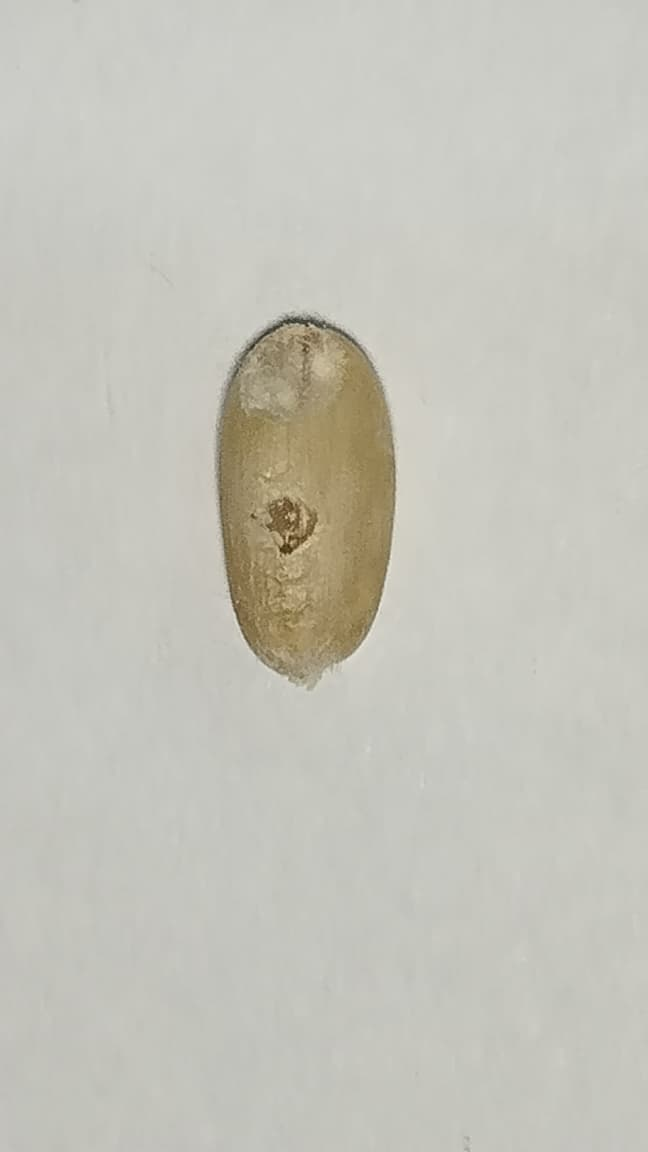damage: (214, 313, 397, 684)
insectdamage: (221, 460, 361, 601), (226, 322, 370, 425)
